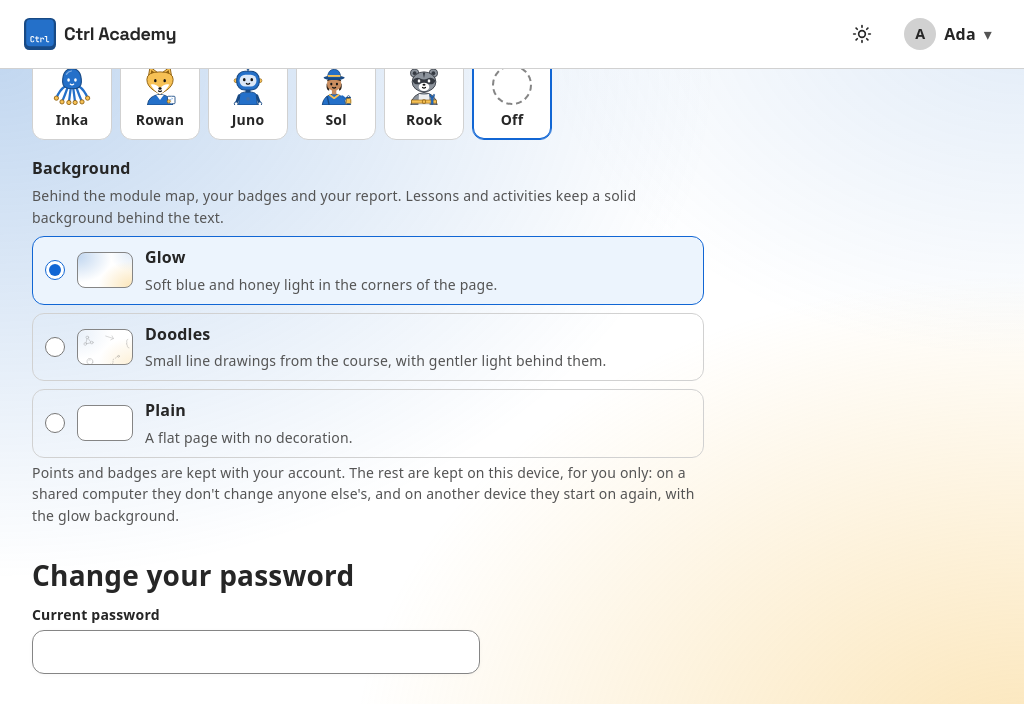
Scenario: page background (#214) › is chosen in the profile too, with a picture of each, and both stay in step
(page scrolled)
Check: the radio button labelled "Glow" is checked, box [45,260,65,280]
Click the radio button labelled "Plain" at (55, 423), box [45,413,65,433]
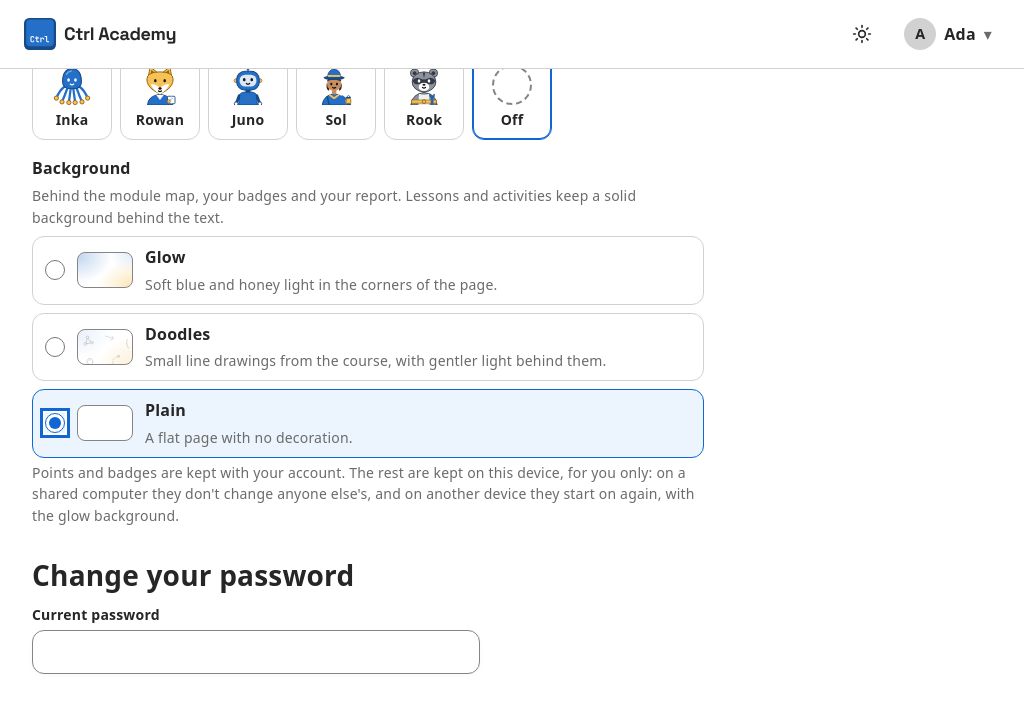
Click the button named "Theme and background" at (862, 34), box [840,12,884,56]
(page scrolled)
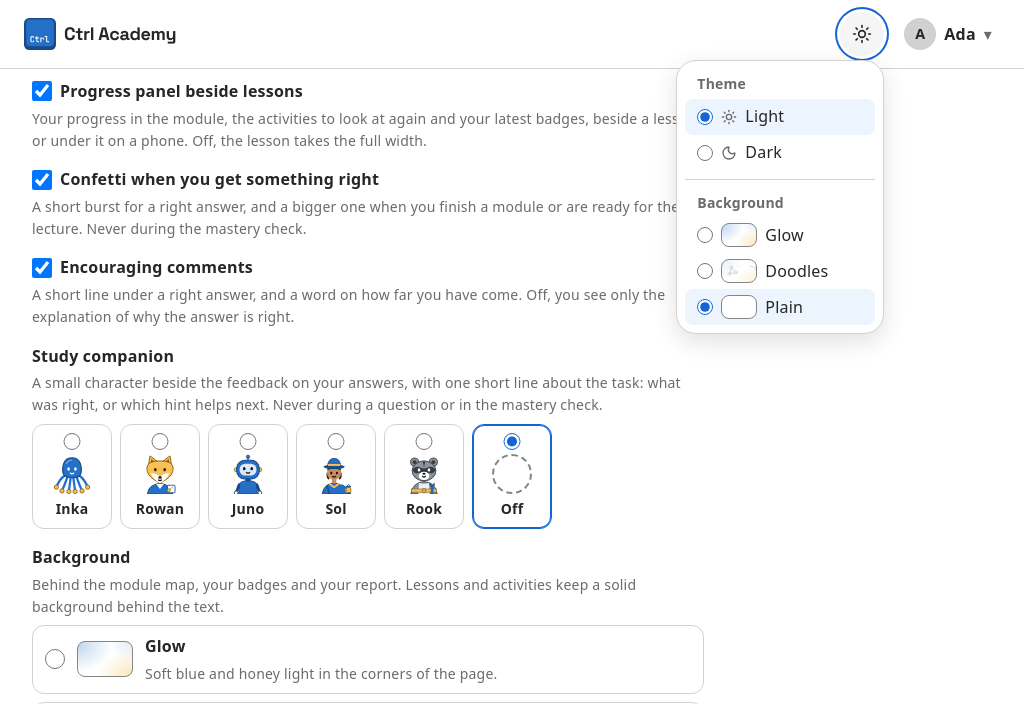
Check: the radio button labelled "Plain" is checked, box [697,299,713,315]
